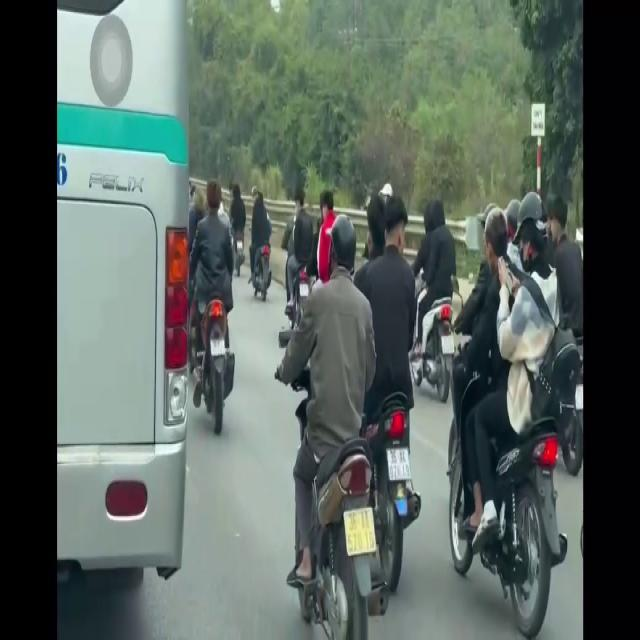helmet: (519, 192, 549, 289), (329, 210, 356, 286)
no_helmet: (205, 179, 222, 224)
